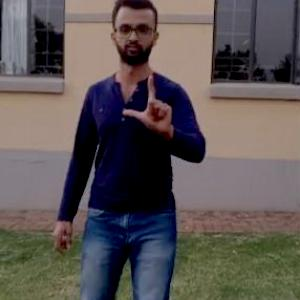land_hand: (116, 67, 184, 146)
